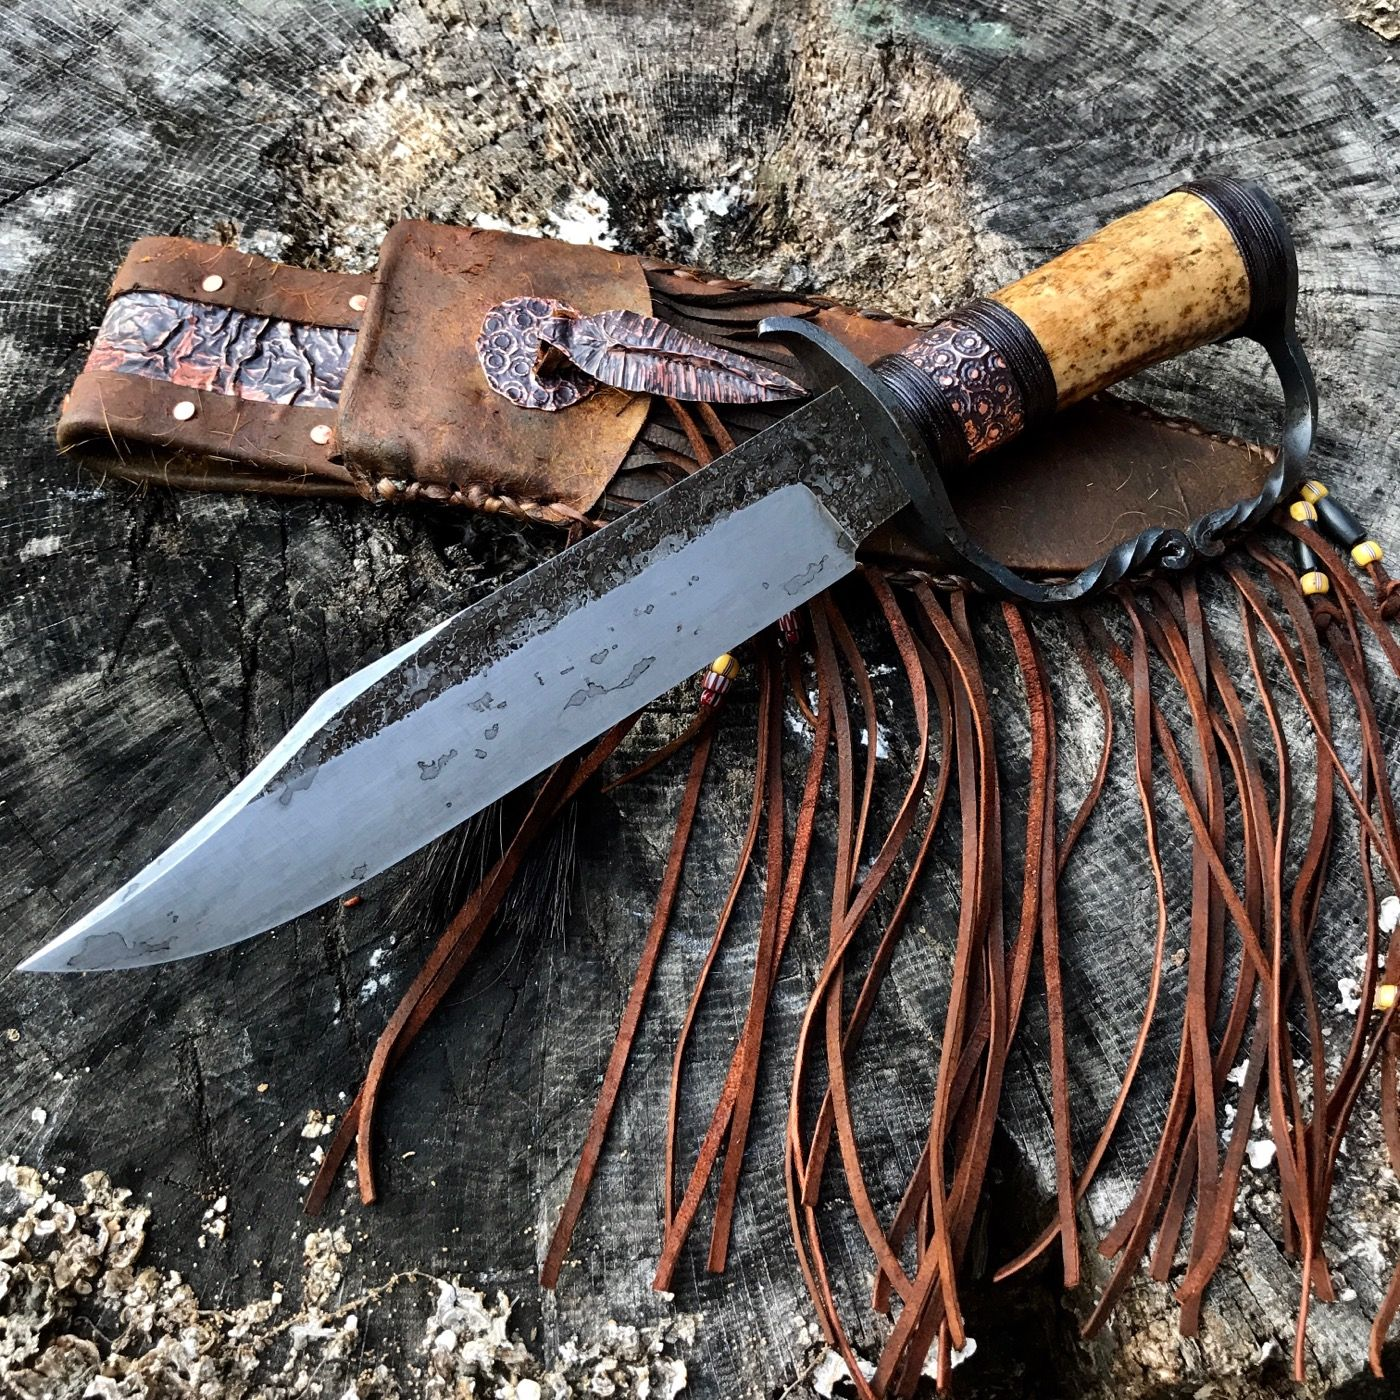knife: (12, 163, 1314, 1014)
